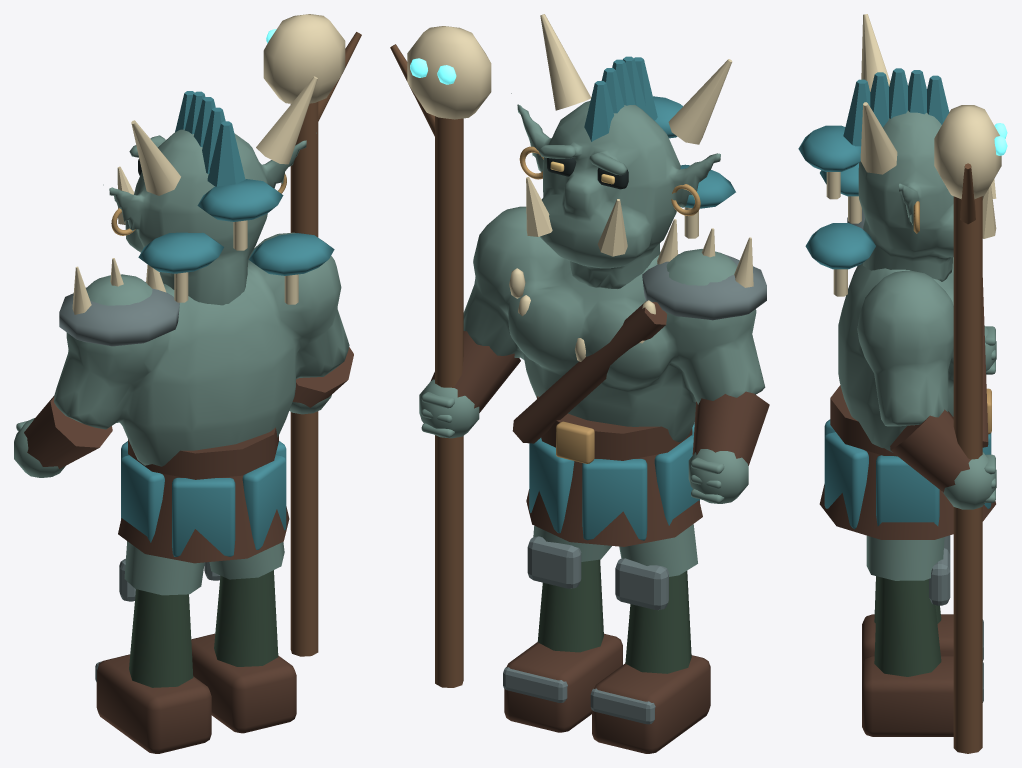
File: host_21.glb
The picture shows the model from 3 angles, left to right: view 1: azimuth 30°, elevation 25°; view 2: azimuth 150°, elevation 25°; view 3: azimuth 270°, elevation 25°; orthographic projection. The views are drawn at different scales.
Parts seen in each view (by area): view 1: mesh_Skin.002, mesh_Cloth.020, mesh_Leather.002, mesh_Bone.020, mesh_Wood.020, mesh_Leather.020, mesh_Leather.001, mesh_Shadow.020, mesh_Shadow.001, mesh_Iron.002, mesh_Skin.020, mesh_Skin.001; view 2: mesh_Skin.002, mesh_Leather.002, mesh_Wood.020, mesh_Cloth.020, mesh_Bone.020, mesh_Leather.020, mesh_Leather.001, mesh_Shadow.020, mesh_Shadow.001, mesh_Iron.002, mesh_Iron.001, mesh_Iron.020 (+4 smaller); view 3: mesh_Skin.002, mesh_Cloth.020, mesh_Wood.020, mesh_Leather.002, mesh_Bone.020, mesh_Leather.001, mesh_Shadow.001, mesh_Skin.001, mesh_Leather.020, mesh_Iron.001, mesh_Copper.020.
Part boxes in pixels (<box>): mesh_Skin.002: <box>14,129,349,477</box>; mesh_Cloth.020: <box>121,91,334,556</box>; mesh_Leather.002: <box>24,347,353,563</box>; mesh_Bone.020: <box>72,14,345,314</box>; mesh_Wood.020: <box>290,32,361,656</box>; mesh_Leather.020: <box>96,654,211,753</box>; mesh_Leather.001: <box>191,633,296,733</box>; mesh_Shadow.020: <box>129,589,193,687</box>; mesh_Shadow.001: <box>214,570,278,666</box>; mesh_Iron.002: <box>59,282,179,346</box>; mesh_Skin.020: <box>124,541,204,595</box>; mesh_Skin.001: <box>209,542,284,579</box>; mesh_Skin.002: <box>419,93,765,503</box>; mesh_Leather.002: <box>430,301,769,546</box>; mesh_Wood.020: <box>390,44,463,687</box>; mesh_Cloth.020: <box>529,56,735,540</box>; mesh_Bone.020: <box>407,14,753,361</box>; mesh_Leather.020: <box>592,655,710,753</box>; mesh_Leather.001: <box>504,633,622,732</box>; mesh_Shadow.020: <box>625,571,691,673</box>; mesh_Shadow.001: <box>537,559,603,652</box>; mesh_Iron.002: <box>642,254,766,320</box>; mesh_Iron.001: <box>503,536,581,702</box>; mesh_Iron.020: <box>590,558,668,724</box>; mesh_Skin.002: <box>838,110,996,509</box>; mesh_Cloth.020: <box>798,68,991,529</box>; mesh_Wood.020: <box>953,163,982,753</box>; mesh_Leather.002: <box>819,278,995,539</box>; mesh_Bone.020: <box>826,14,1001,296</box>; mesh_Leather.001: <box>862,656,953,736</box>; mesh_Shadow.001: <box>874,576,941,676</box>; mesh_Skin.001: <box>866,535,944,580</box>; mesh_Leather.020: <box>862,614,953,665</box>; mesh_Iron.001: <box>929,548,983,702</box>; mesh_Copper.020: <box>913,201,991,434</box>.
Bounding box in the file's own units: 1.08 × 1.98 × 0.5676.
